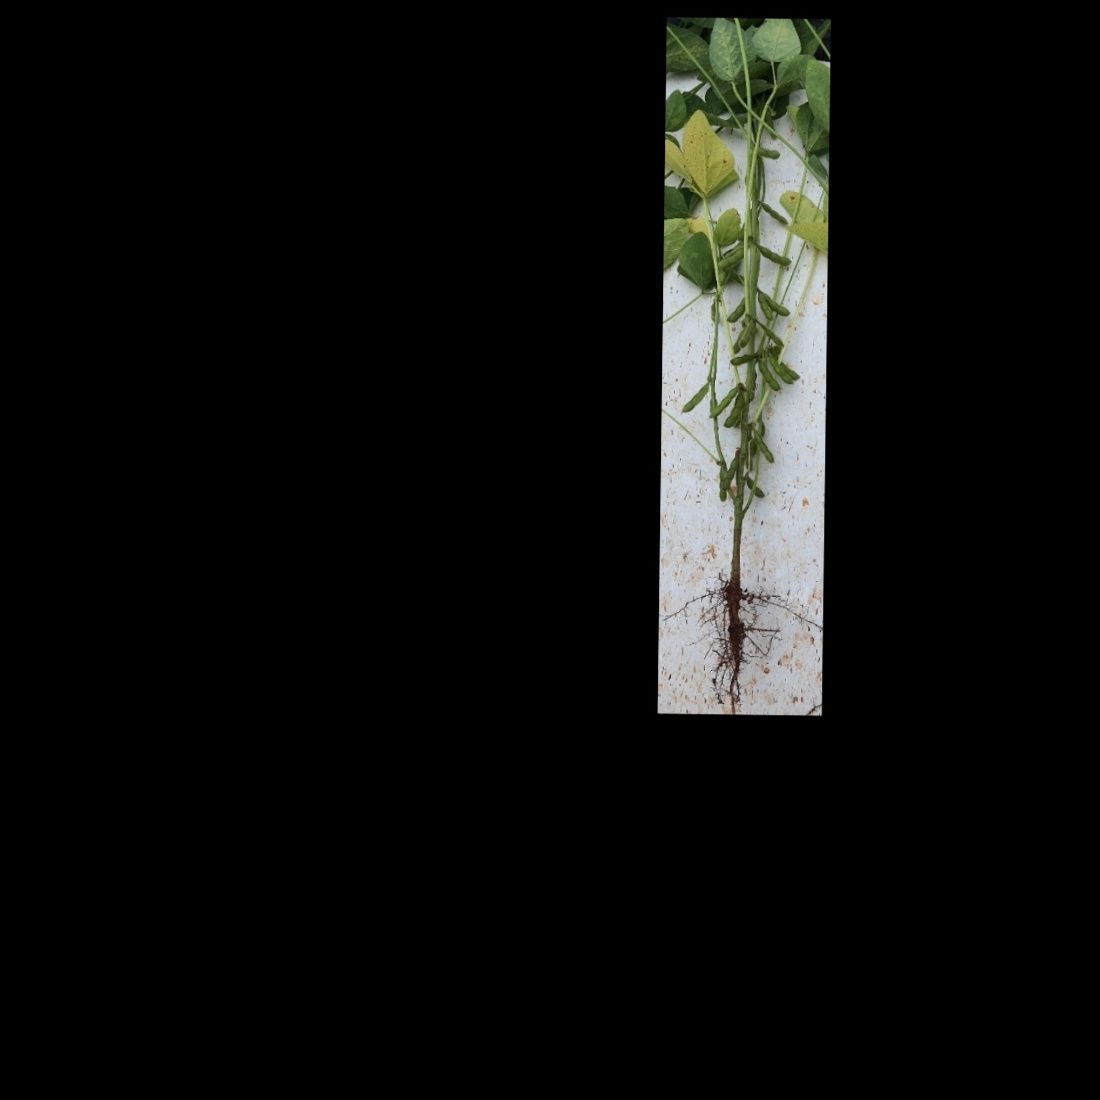pod: (750, 239, 794, 268), (680, 378, 711, 415), (753, 196, 793, 226), (704, 384, 736, 418), (752, 427, 776, 465), (755, 358, 780, 393), (724, 391, 746, 429), (752, 321, 786, 347), (724, 296, 749, 324), (745, 474, 767, 500), (752, 143, 781, 161), (728, 350, 758, 366), (717, 466, 728, 504)
soy: (673, 47, 814, 683)
